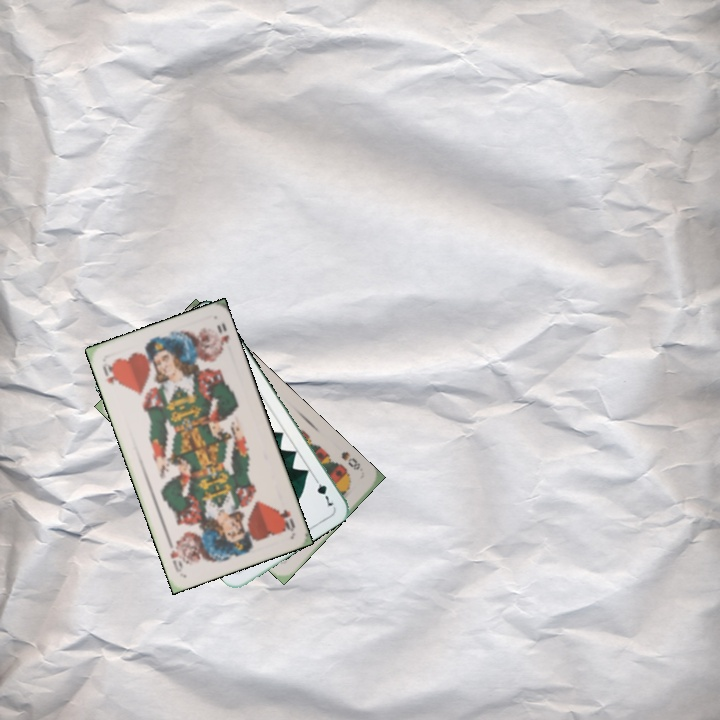G7: (309, 472, 336, 509)
HO: (274, 504, 298, 534), (98, 359, 122, 388)
S8: (337, 447, 363, 473)
